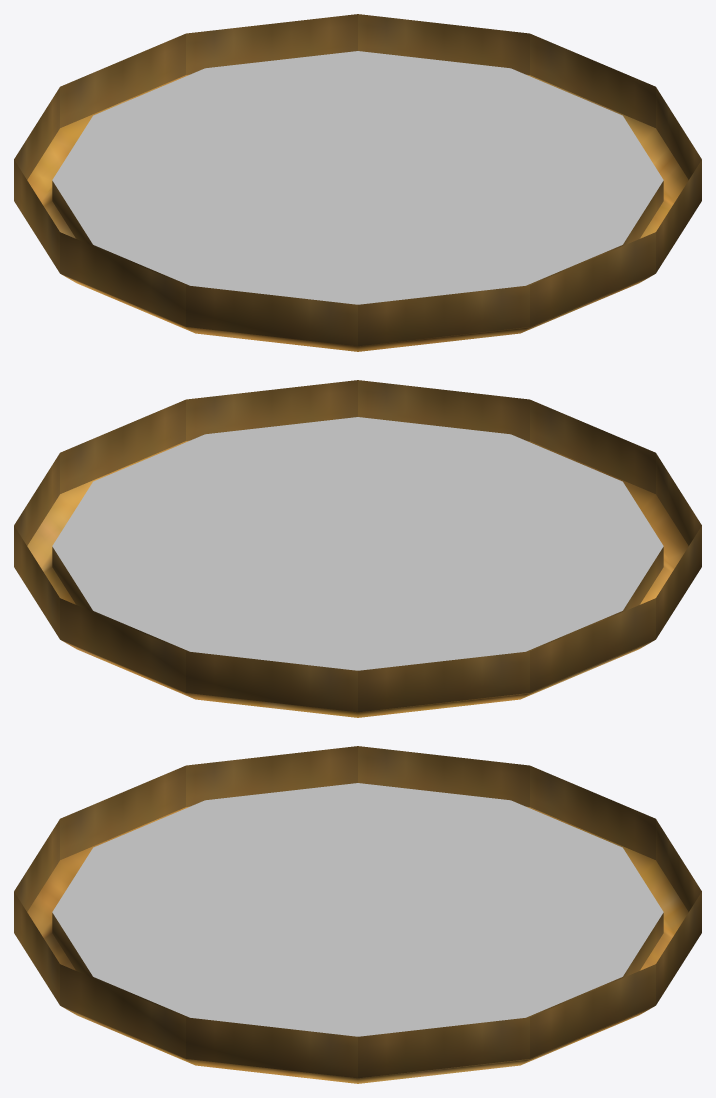
Rendered from LiteR.obj.
3 renders of one model, top to bottom at view 1: azimuth 30°, elevation 25°; view 2: azimuth 150°, elevation 25°; view 3: azimuth 270°, elevation 25°, orthographic.
Parts seen in each view (by area): view 1: LiteR; view 2: LiteR; view 3: LiteR.
Boxes of the visible parts, left/top/right/bottom form: LiteR: left=14, top=14, right=701, bottom=351; LiteR: left=14, top=380, right=701, bottom=717; LiteR: left=14, top=746, right=701, bottom=1083.
Bounding box in the file's own units: 36 × 3.19 × 36.
